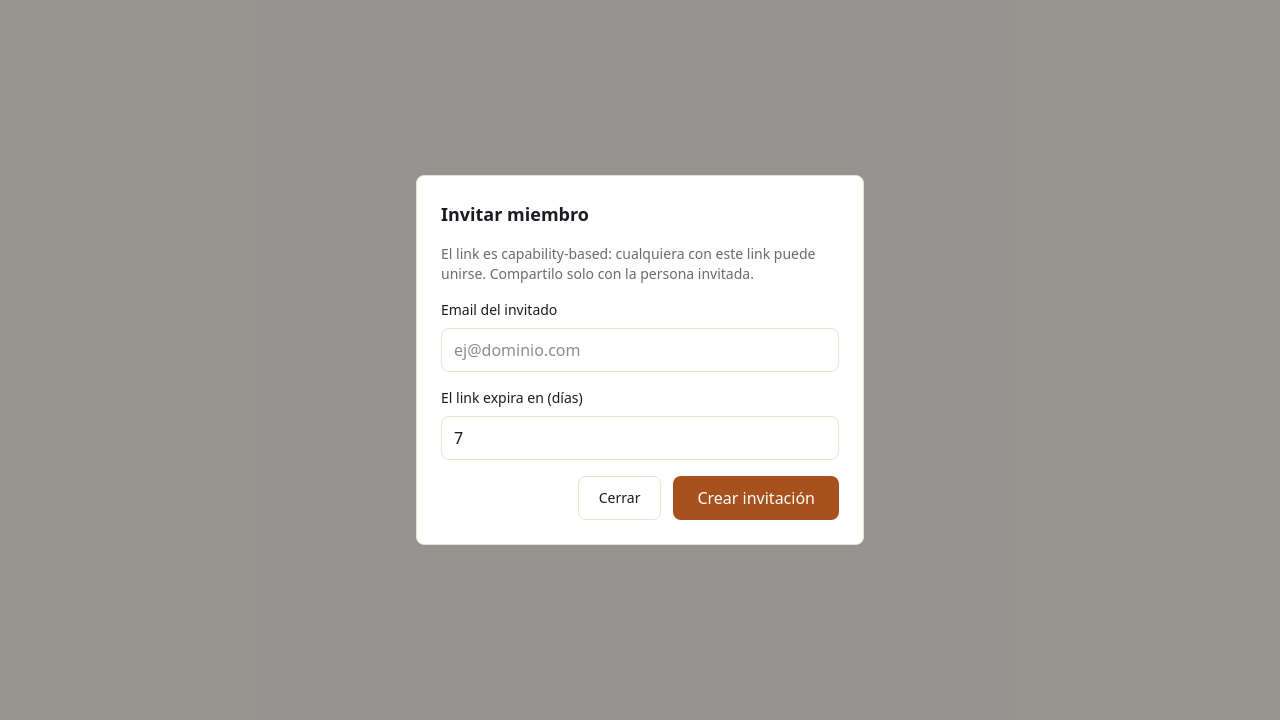
Test: <InviteMemberModal /> › Submit válido invoca createAction con shape correcto + revela link copiable
Type "a@b.com" into the field labelled "Email del invitado" at x=640, y=350, box [441,328,839,372]
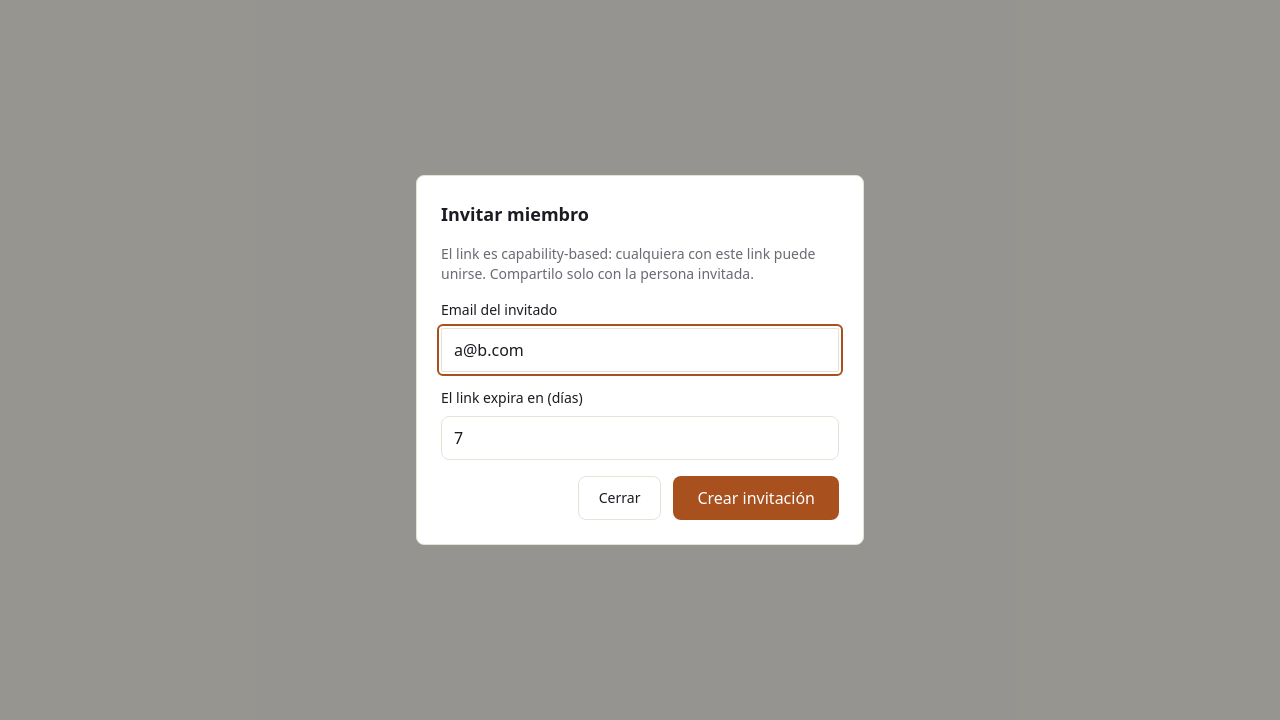
Click the button "Crear invitación" at x=756, y=498, box [673,476,839,520]
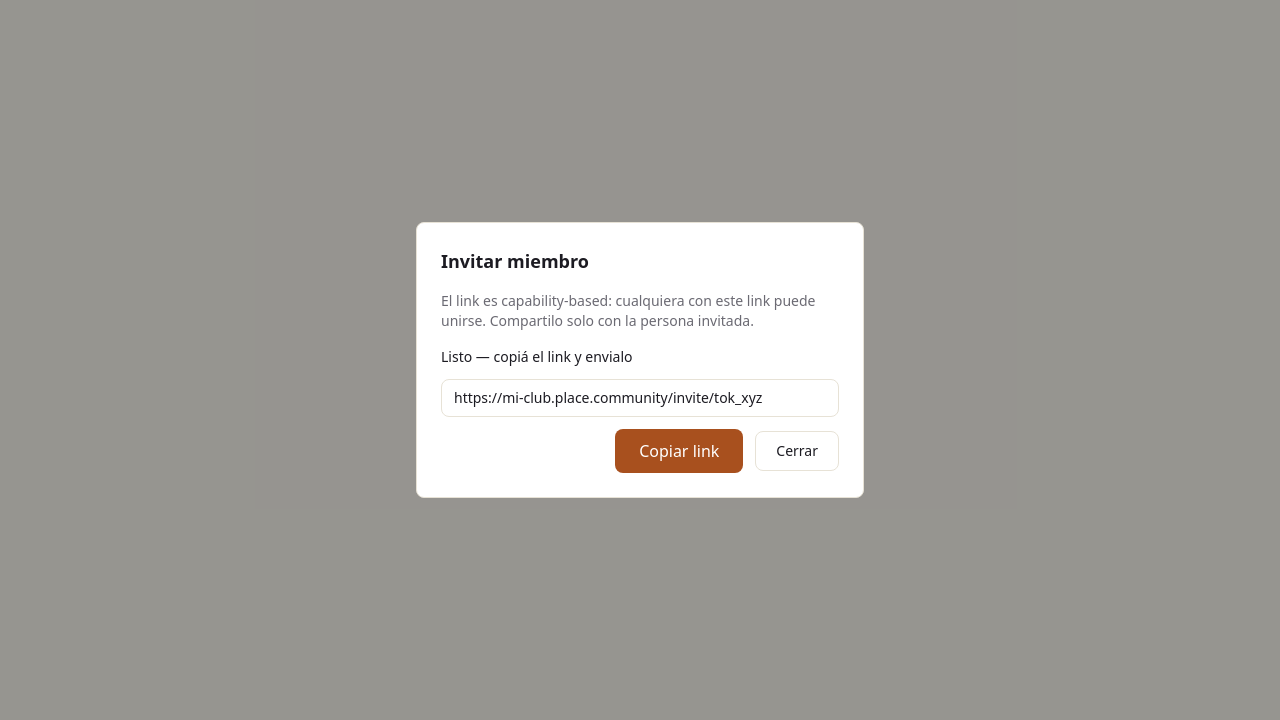
Check: the text "Listo — copiá el link y envialo" is shown, box [441,347,632,366]
Check: the text "https://mi-club.place.community/invite/tok_xyz" is shown, box [454,388,762,407]
Check: the button "Copiar link" is shown, box [615,429,743,473]
